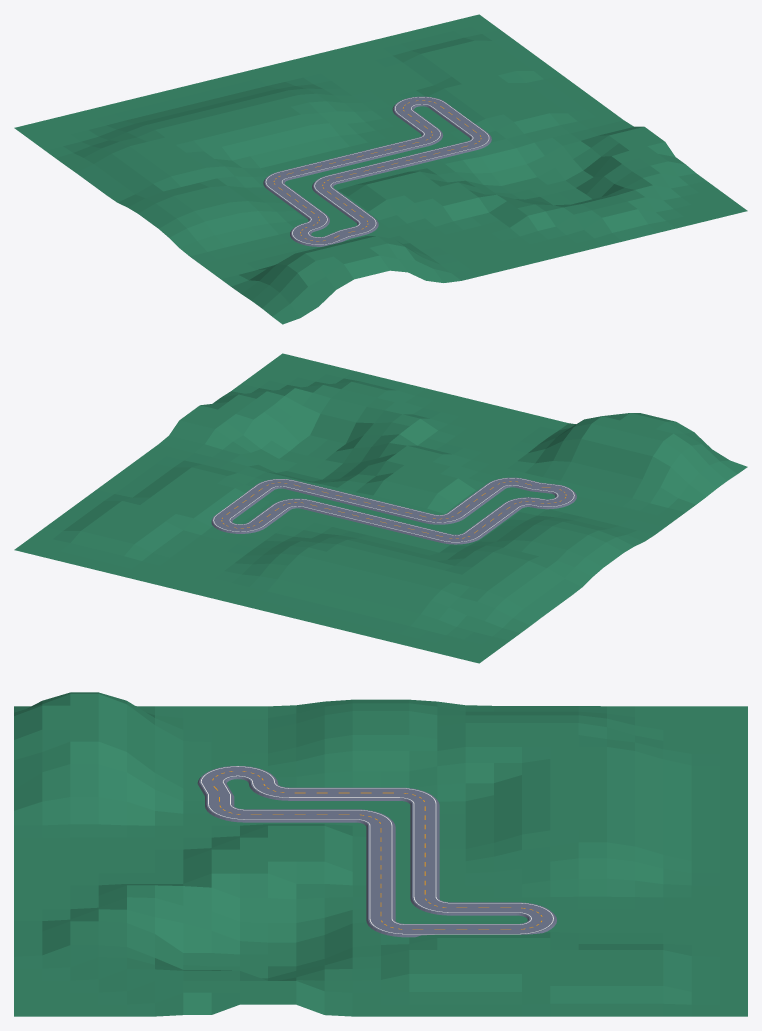
File: Road.fbx
3 views of the same model, one above another, from view 1: azimuth 30°, elevation 25°; view 2: azimuth 150°, elevation 25°; view 3: azimuth 270°, elevation 25° (orthographic). The views are drawn at different scales.
Visible parts, largest first — view 1: Plane, Road; view 2: Plane, Road; view 3: Plane, Road.
Part boxes in pixels (<box>): Plane: <box>14,14,747,324</box>; Road: <box>263,96,491,246</box>; Plane: <box>14,353,747,663</box>; Road: <box>211,477,576,544</box>; Plane: <box>14,692,747,1016</box>; Road: <box>197,766,556,937</box>.
Size of the model in its own units: 10000 by 1048 by 10000.
